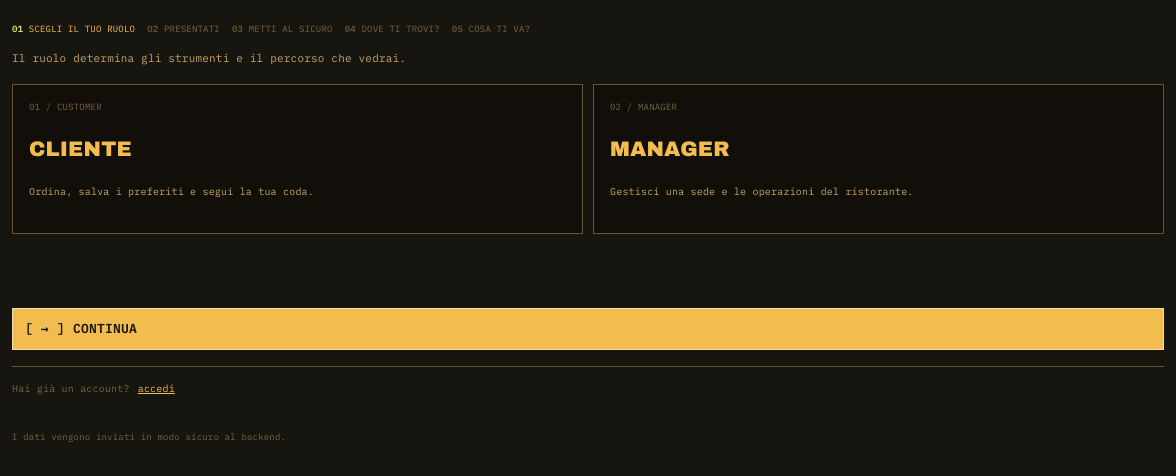
it: RegisterWizard › al passo identita mette nome e cognome su due colonne
Click the button "CLIENTE".
click(65, 106)  # box left=12, top=84, right=583, bottom=234
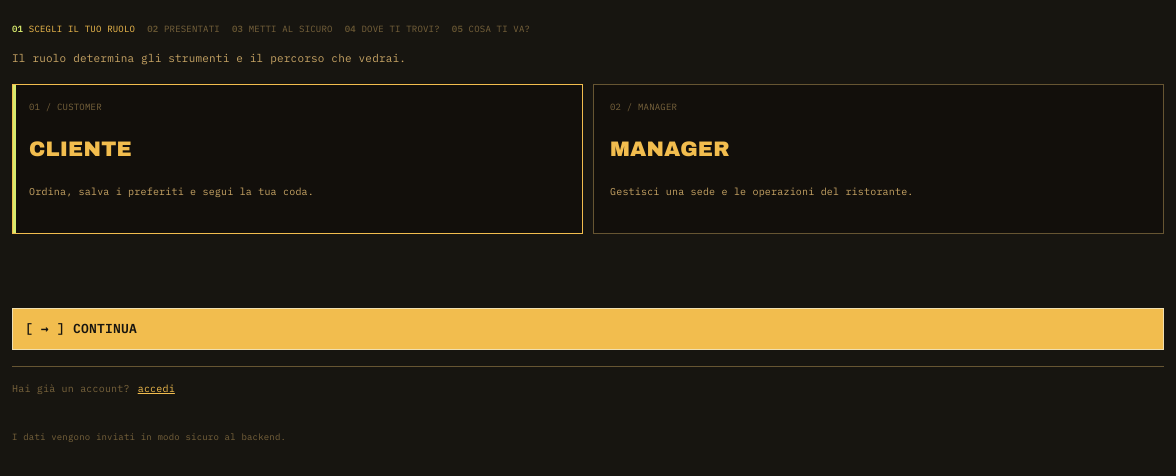
Submit the form
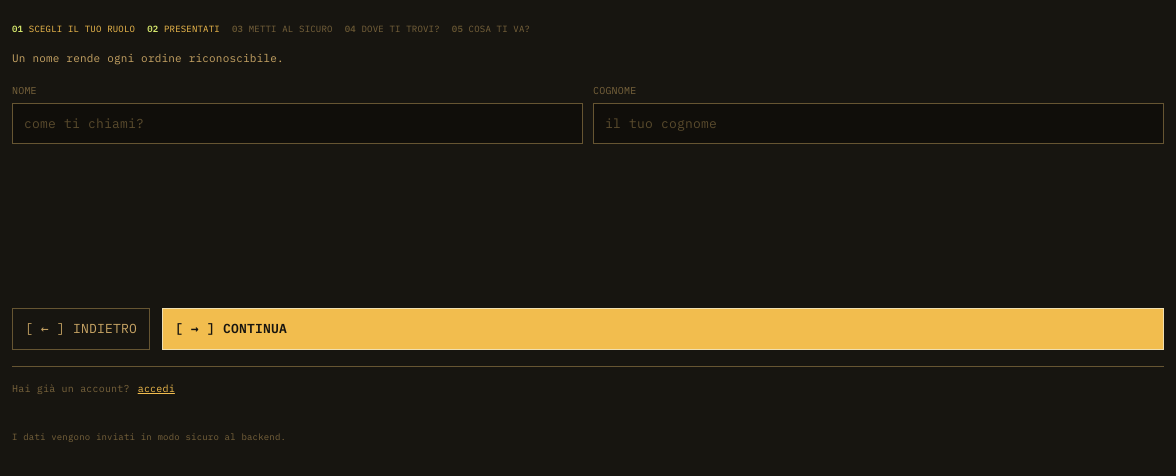
Result: the element with class "two-up" is shown at left=12, top=84, right=1164, bottom=144
Result: the number of labels with class "wizard-field" is 2 at left=12, top=84, right=583, bottom=144; left=593, top=84, right=1164, bottom=144
